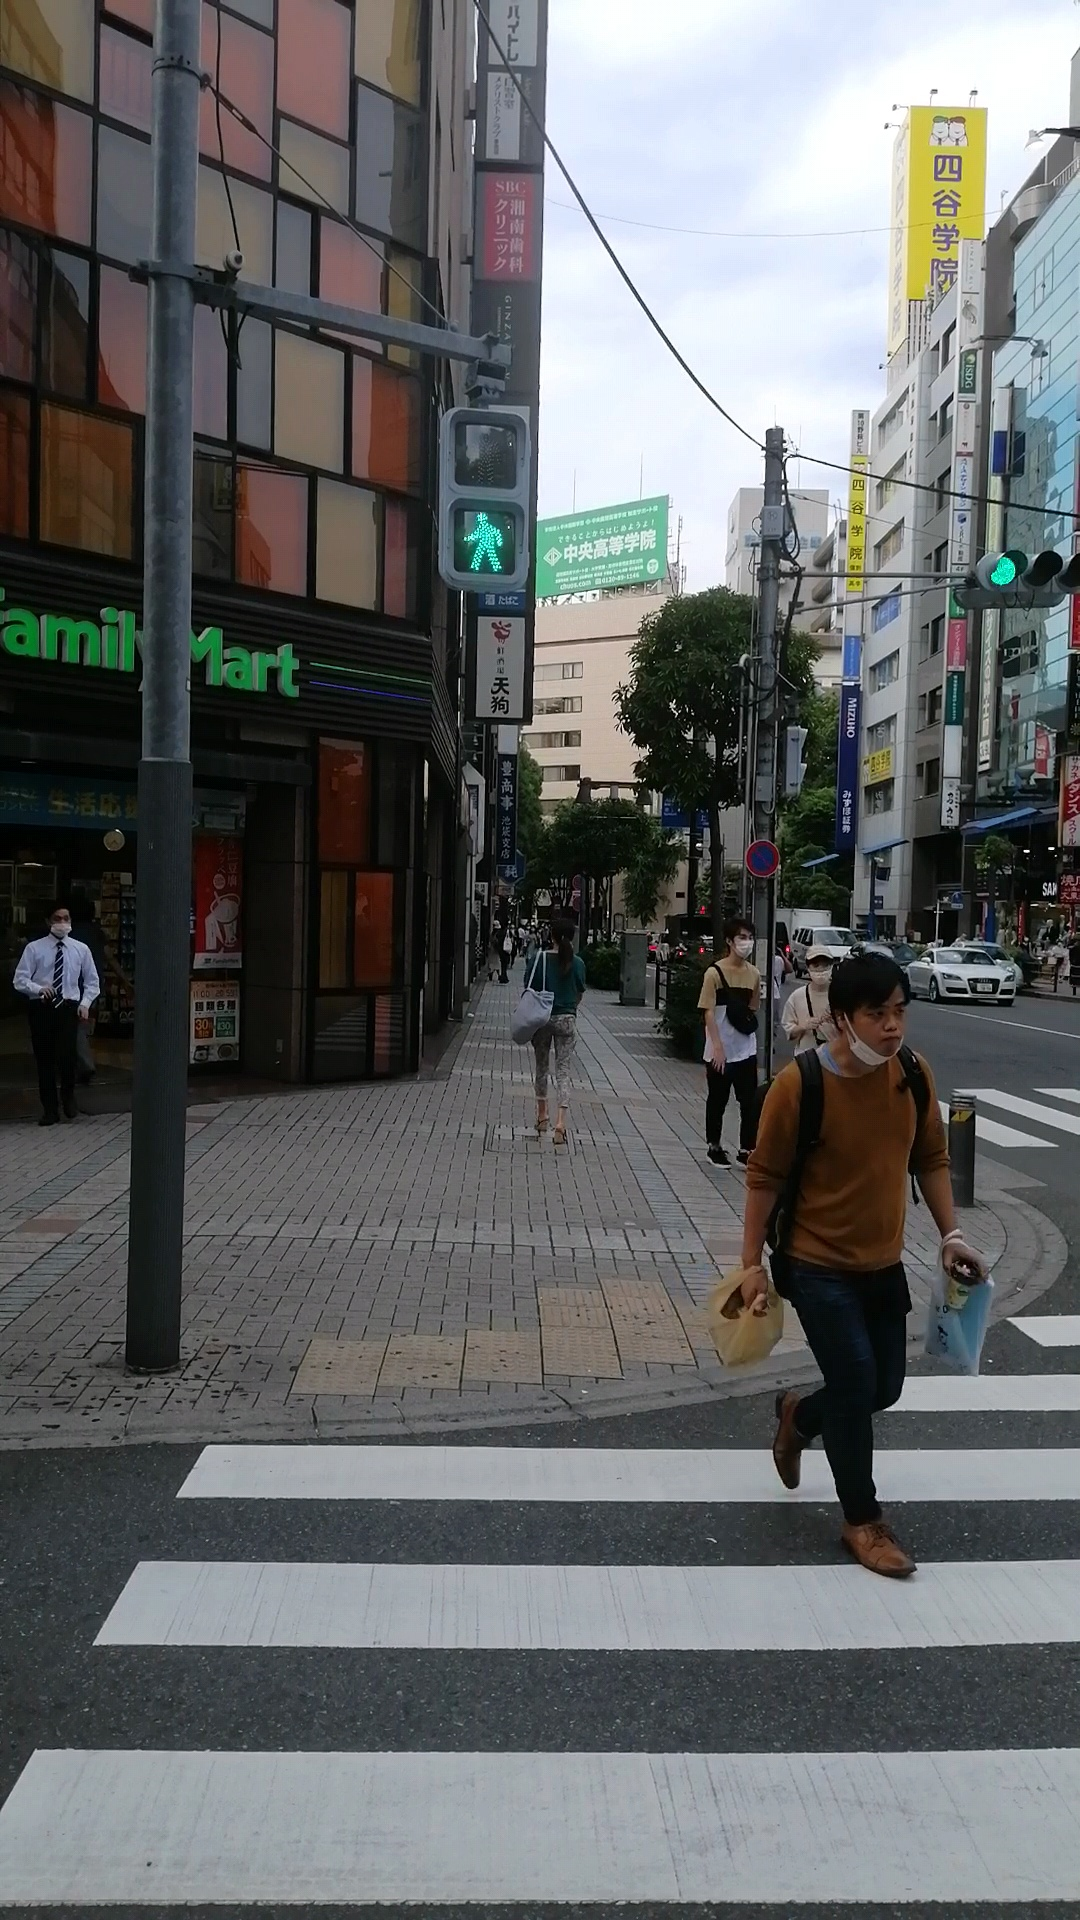green: (440, 404, 529, 584)
